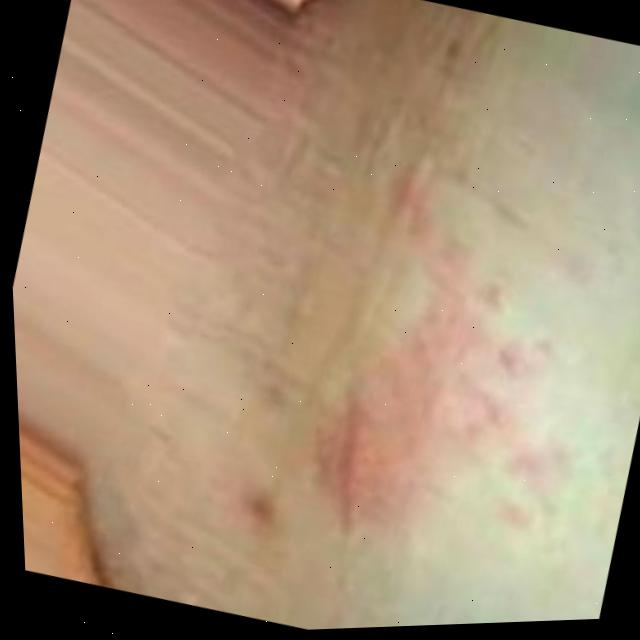Shingles: (283, 144, 640, 585)
